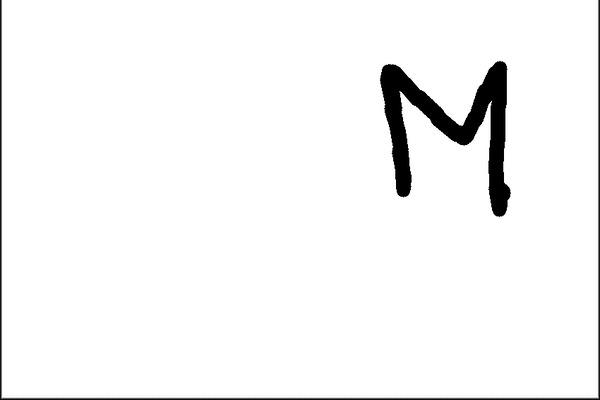M: (377, 58, 516, 216)
